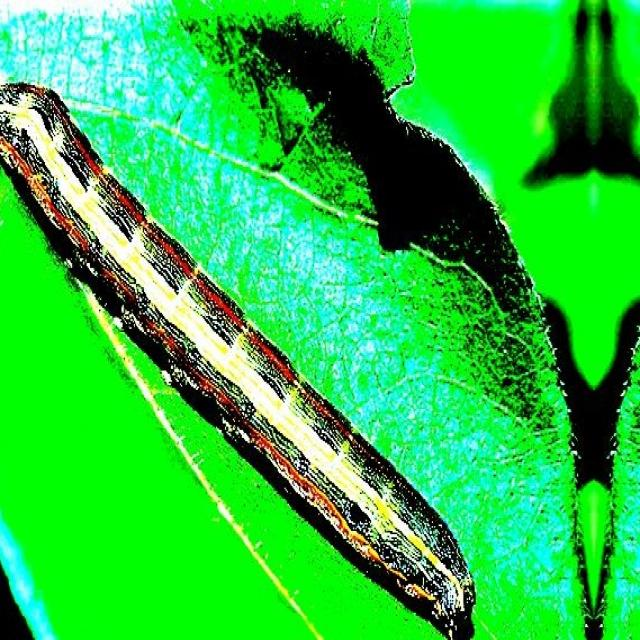Armyworm: (1, 67, 495, 636)
